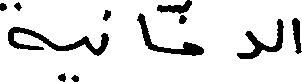X: (0, 0, 43, 54), (186, 0, 202, 60), (238, 26, 261, 63), (141, 9, 150, 54), (293, 13, 301, 58), (275, 14, 282, 56), (81, 31, 88, 53), (103, 5, 106, 56)
